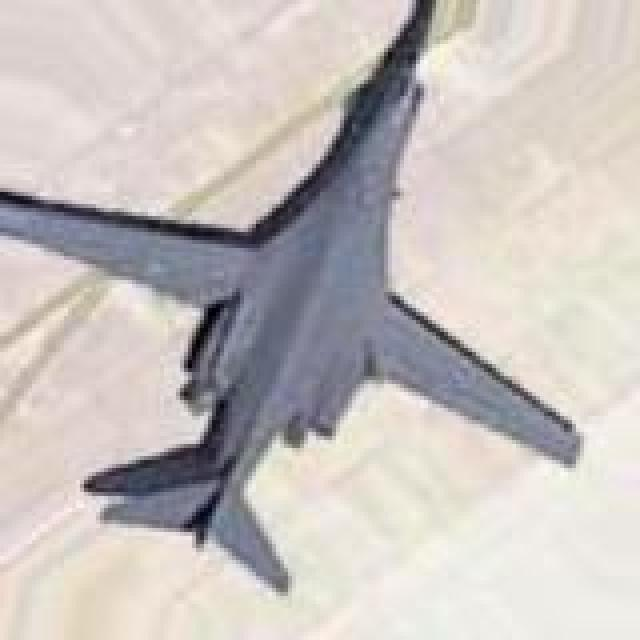B-1_TopDown: (0, 0, 584, 596)
